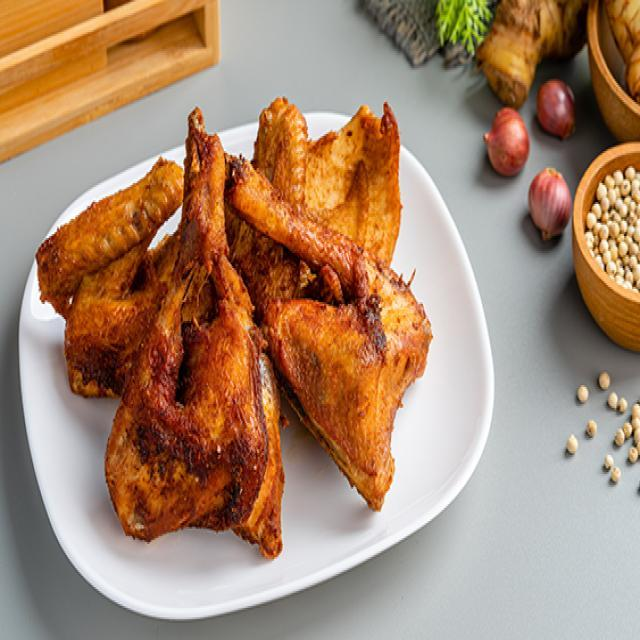ayam_goreng: (53, 91, 436, 580)
